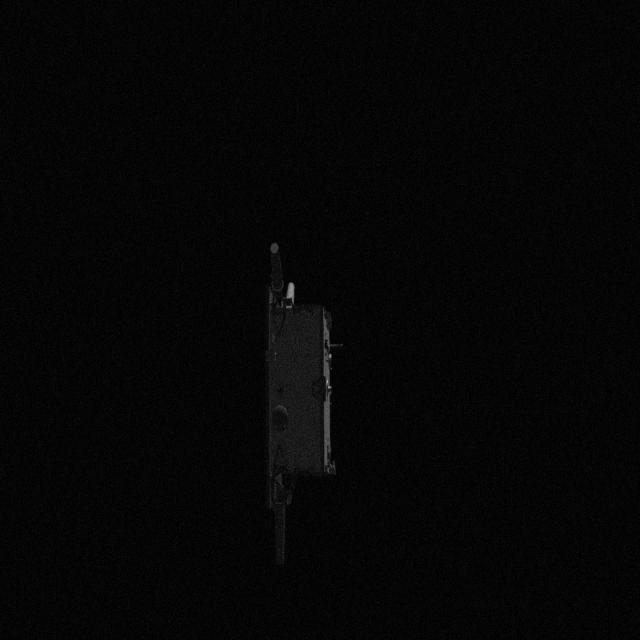satellite: (238, 220, 346, 564)
